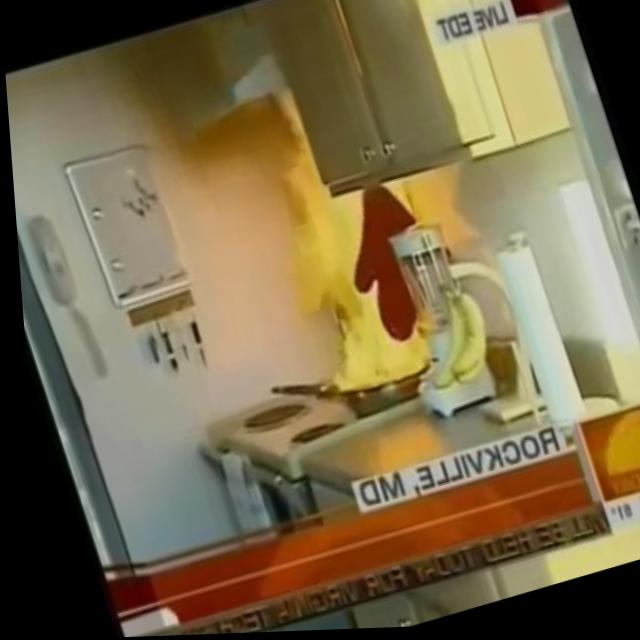fire: (237, 70, 440, 404)
